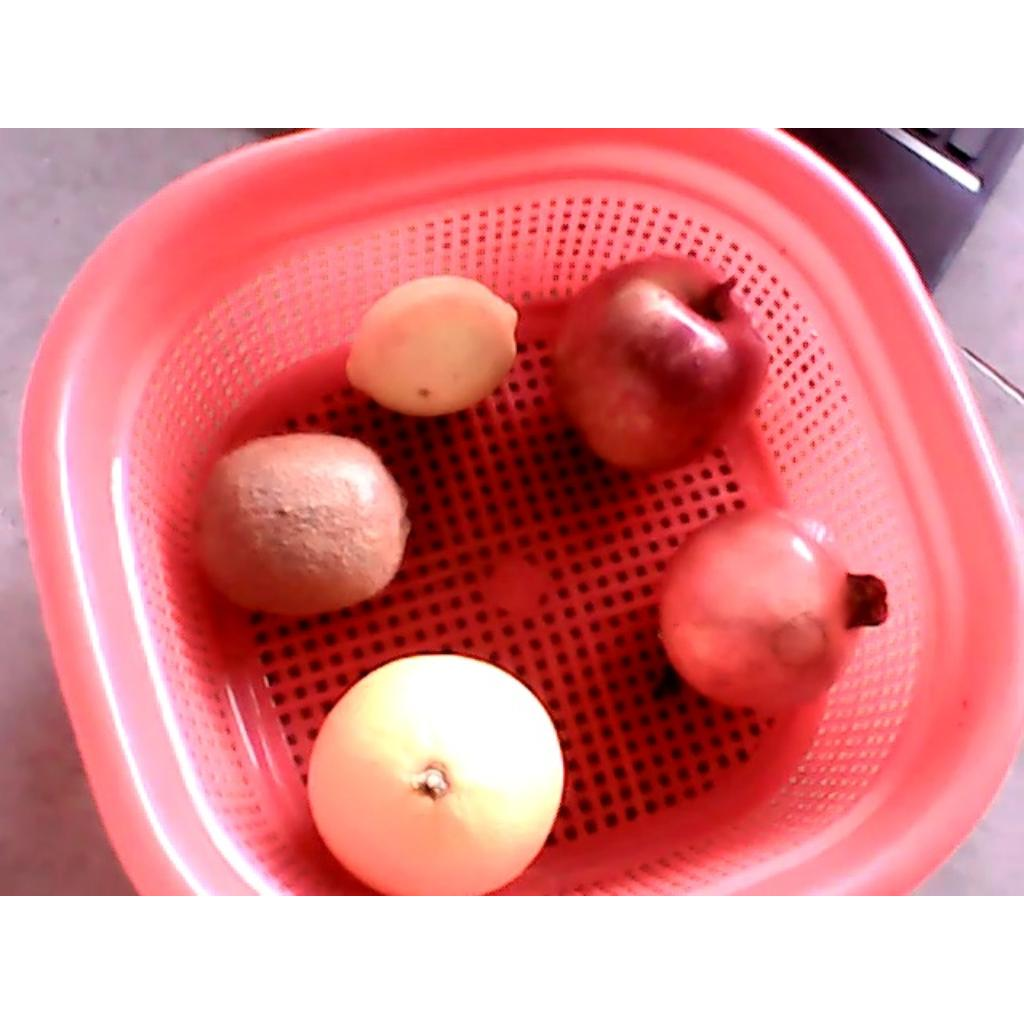kiwi: (191, 434, 409, 616)
lemon: (346, 275, 519, 417)
orange: (306, 655, 564, 894)
pomegranate: (549, 251, 773, 474), (657, 509, 888, 714)
